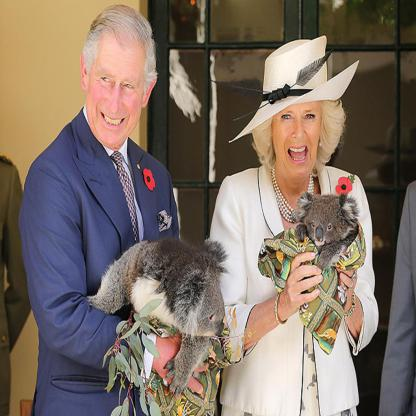face: (91, 38, 143, 148), (274, 86, 322, 182)
